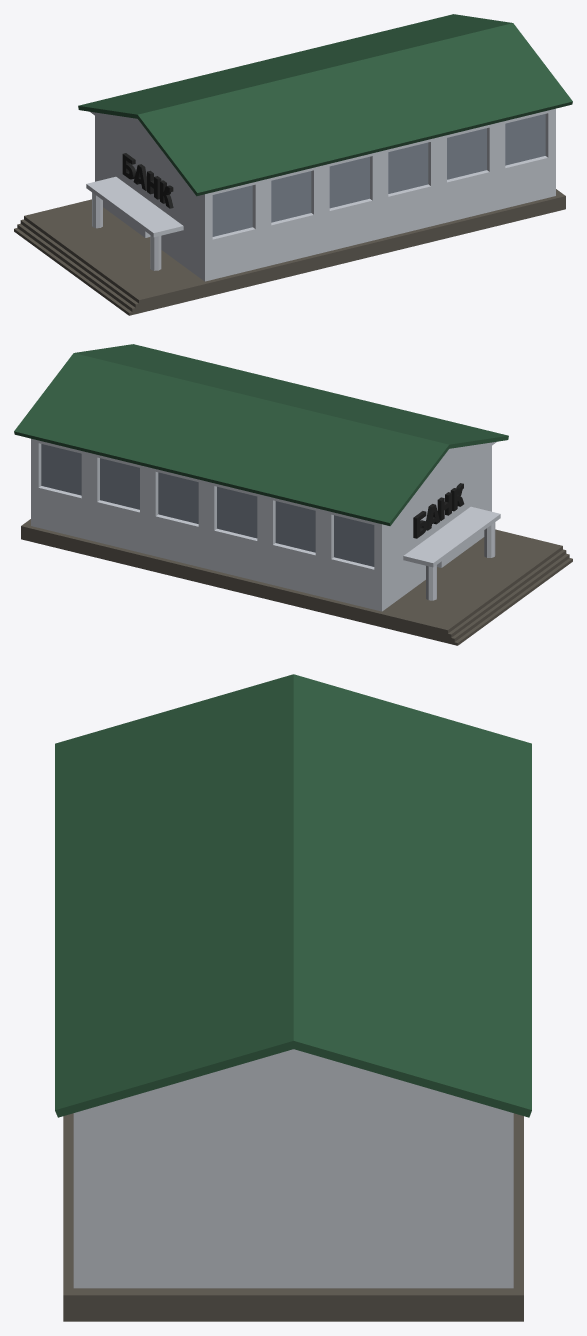
Rendered from BankGowna.fbx.
3 views of the same model, one above another, from view 1: azimuth 30°, elevation 25°; view 2: azimuth 150°, elevation 25°; view 3: azimuth 270°, elevation 25° (orthographic). The views are drawn at different scales.
Parts seen in each view (by area): view 1: Bank; view 2: Bank; view 3: Bank.
Boxes of the visible parts, x1,y1,x2,y2 form: Bank: [14, 14, 572, 315]; Bank: [14, 344, 572, 645]; Bank: [55, 674, 531, 1321].
Bounding box in the file's own units: 69.97 × 21.63 × 32.74.
